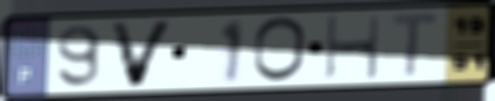1: (217, 17, 247, 85)
9: (53, 23, 103, 88)
H: (323, 12, 383, 82)
O: (250, 15, 309, 85)
T: (388, 10, 443, 81)
V: (106, 19, 178, 89)
